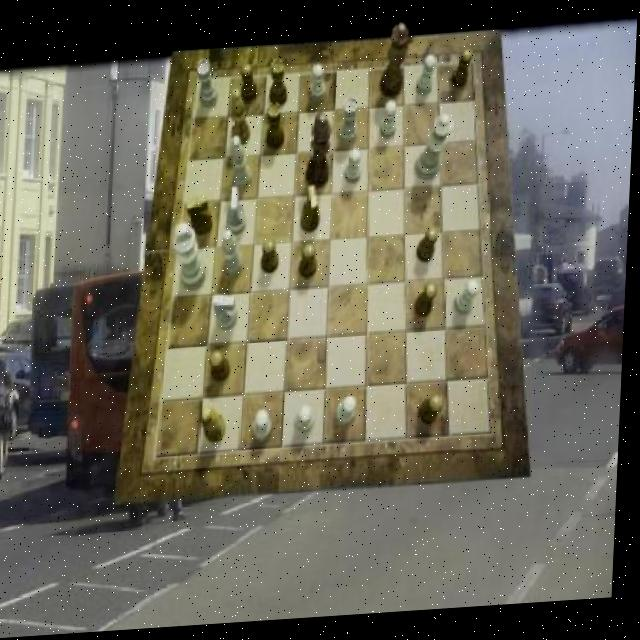bishop: (230, 91, 253, 150), (204, 409, 230, 448)
black-bishop: (308, 114, 335, 193)
black-king: (186, 198, 215, 241), (304, 190, 324, 239)
black-knight: (417, 287, 441, 323), (453, 55, 474, 96), (423, 400, 448, 433), (421, 233, 442, 269), (214, 353, 236, 387), (242, 66, 259, 107), (302, 247, 321, 283), (264, 243, 282, 278)
black-pawn: (380, 28, 410, 105)
black-queen: (267, 106, 287, 155), (271, 62, 290, 112)
black-rook: (231, 139, 255, 194), (224, 233, 248, 281)
white-bishop: (175, 224, 212, 295)
white-king: (228, 190, 250, 240), (216, 296, 241, 335)
white-knight: (457, 286, 483, 322), (417, 60, 438, 103), (382, 107, 400, 146), (340, 400, 361, 432), (347, 153, 365, 190), (312, 69, 329, 108), (258, 412, 276, 446), (300, 409, 320, 437)
white-pawn: (417, 119, 455, 187)
white-queen: (196, 62, 220, 113), (341, 102, 361, 149)
